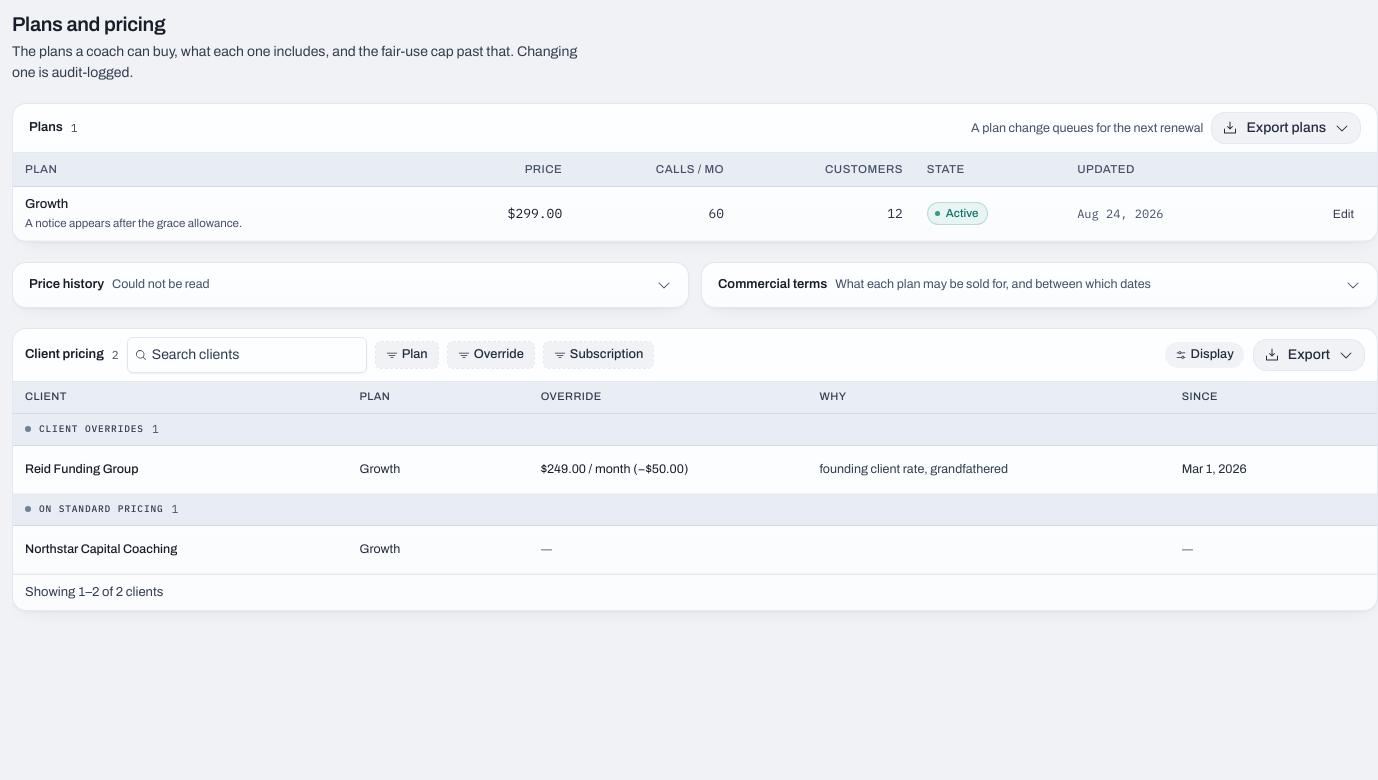
Test: AdminMoneyTiers › filters the client book by search text and by the Plan and Override chips
Expected: the cell "Northstar Capital Coaching" is shown, [13,526,348,574]
Type "Northstar" into the search field with placeholder "Search clients" at (247,354), box [127,336,367,372]
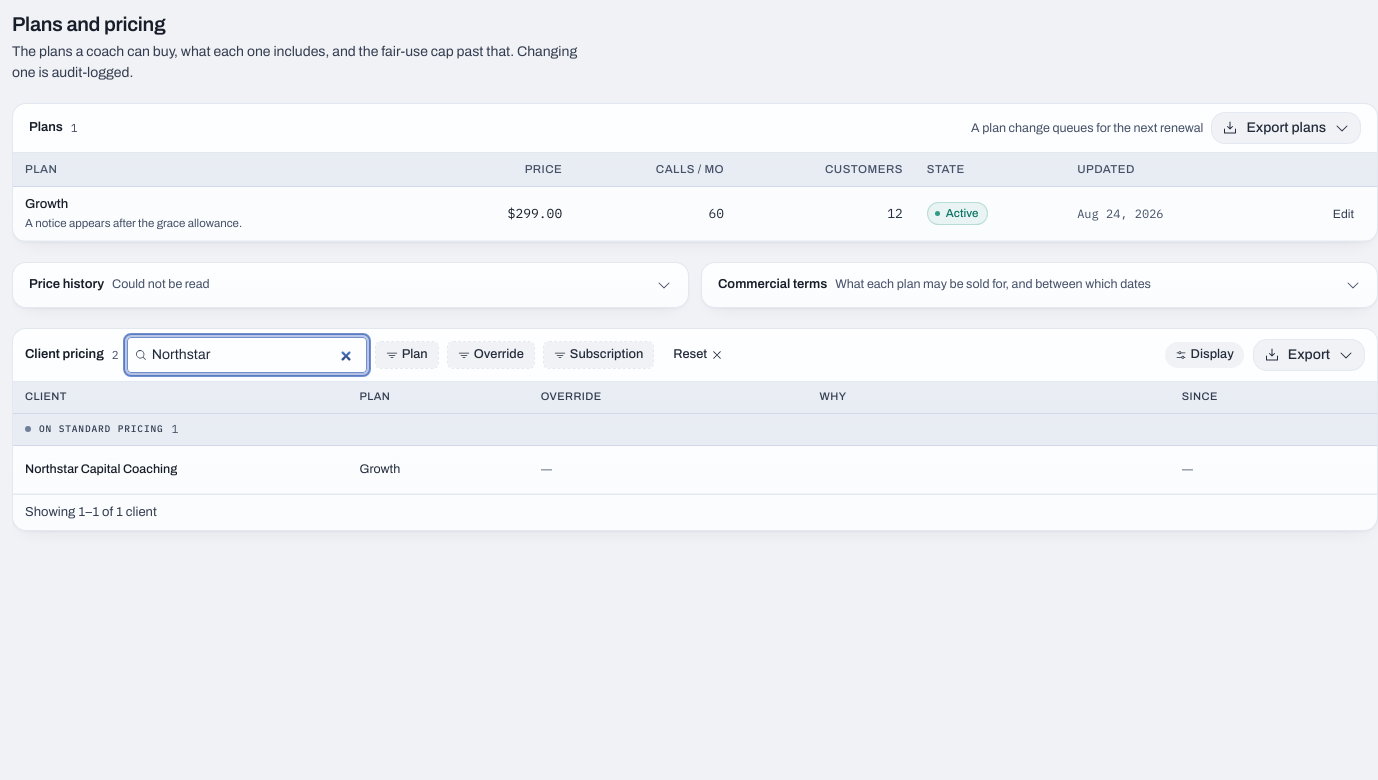
Expected: the button "Reid Funding Group" is gone
Clear the search field with placeholder "Search clients" at (247,354), box [127,336,367,372]
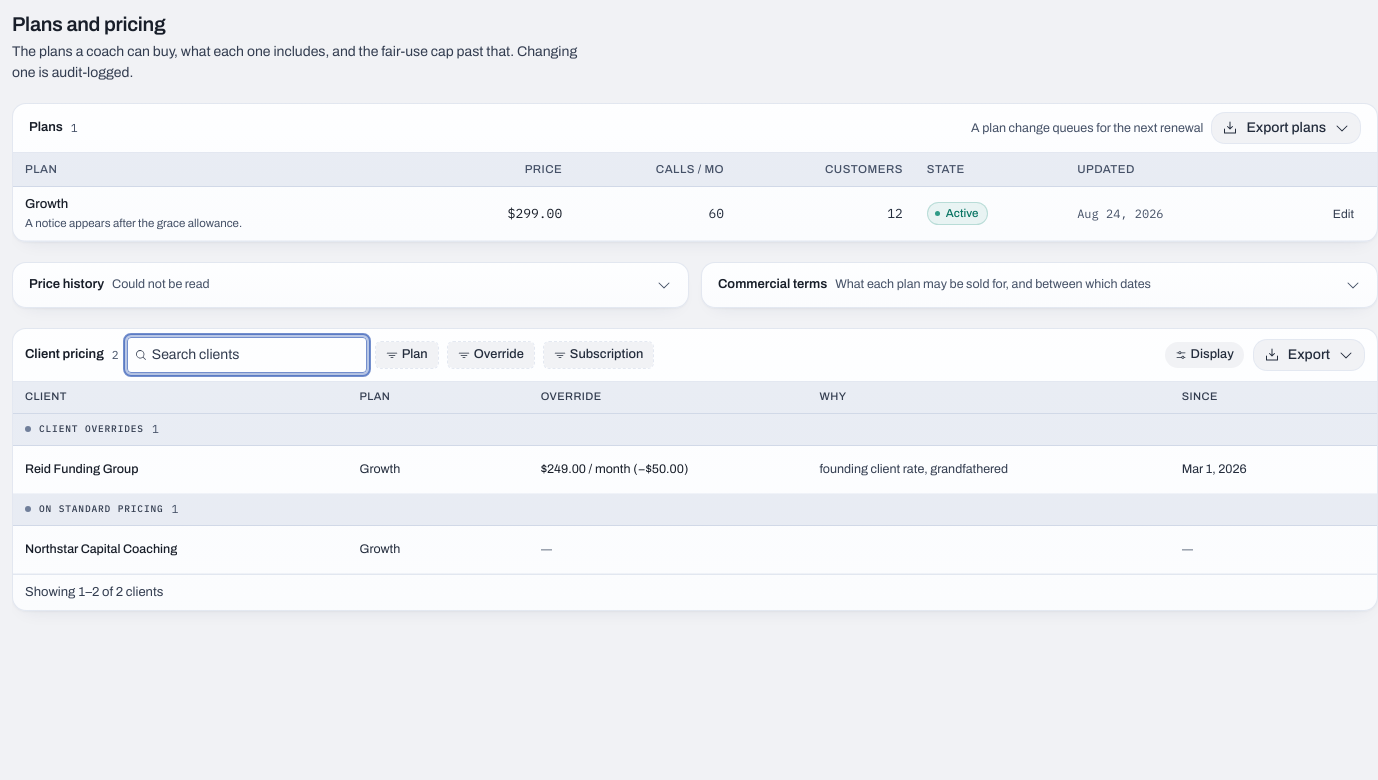
Expected: the cell "Reid Funding Group" is shown, [13,446,348,494]
Click the button "Override" in the row of "Client pricing" at (491,354), box [447,340,535,368]
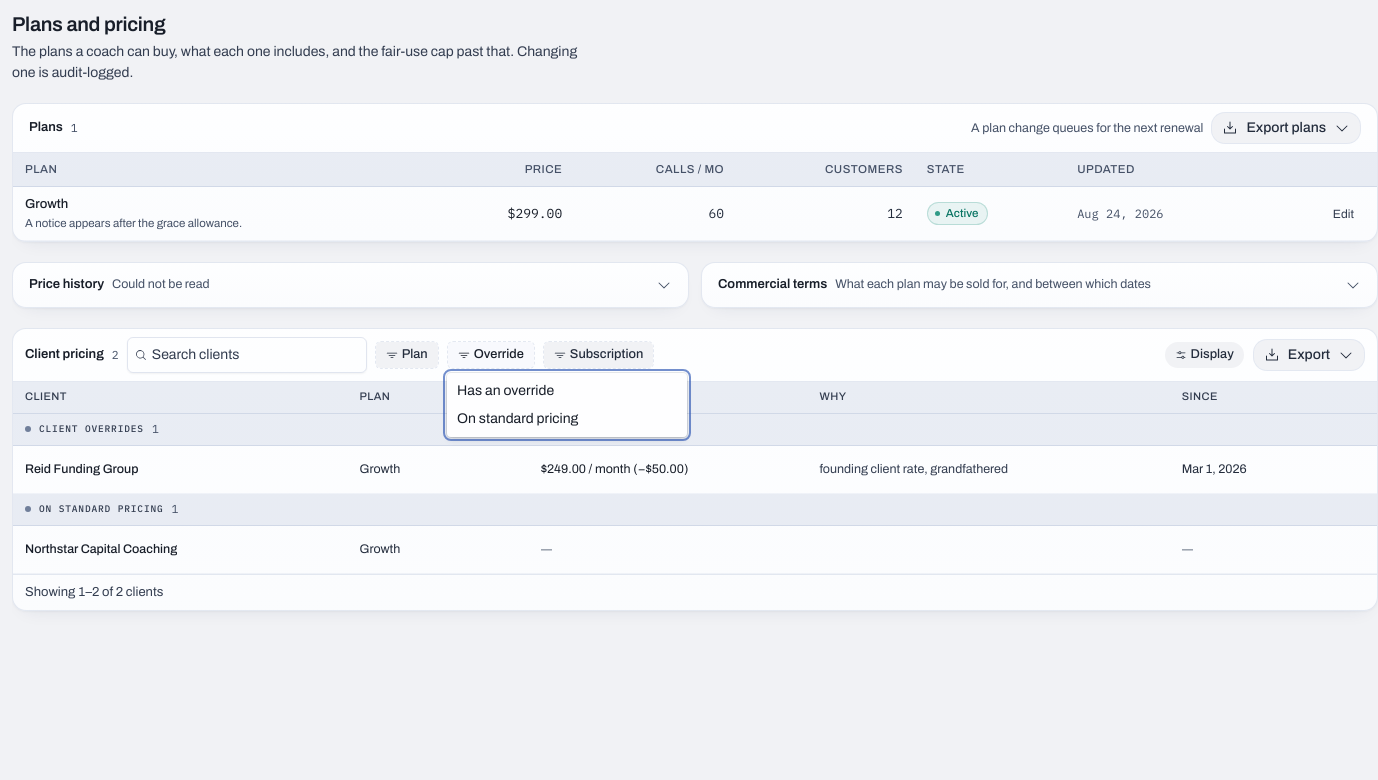
Click the menu item "Has an override" at (506,390), box [457,383,554,398]
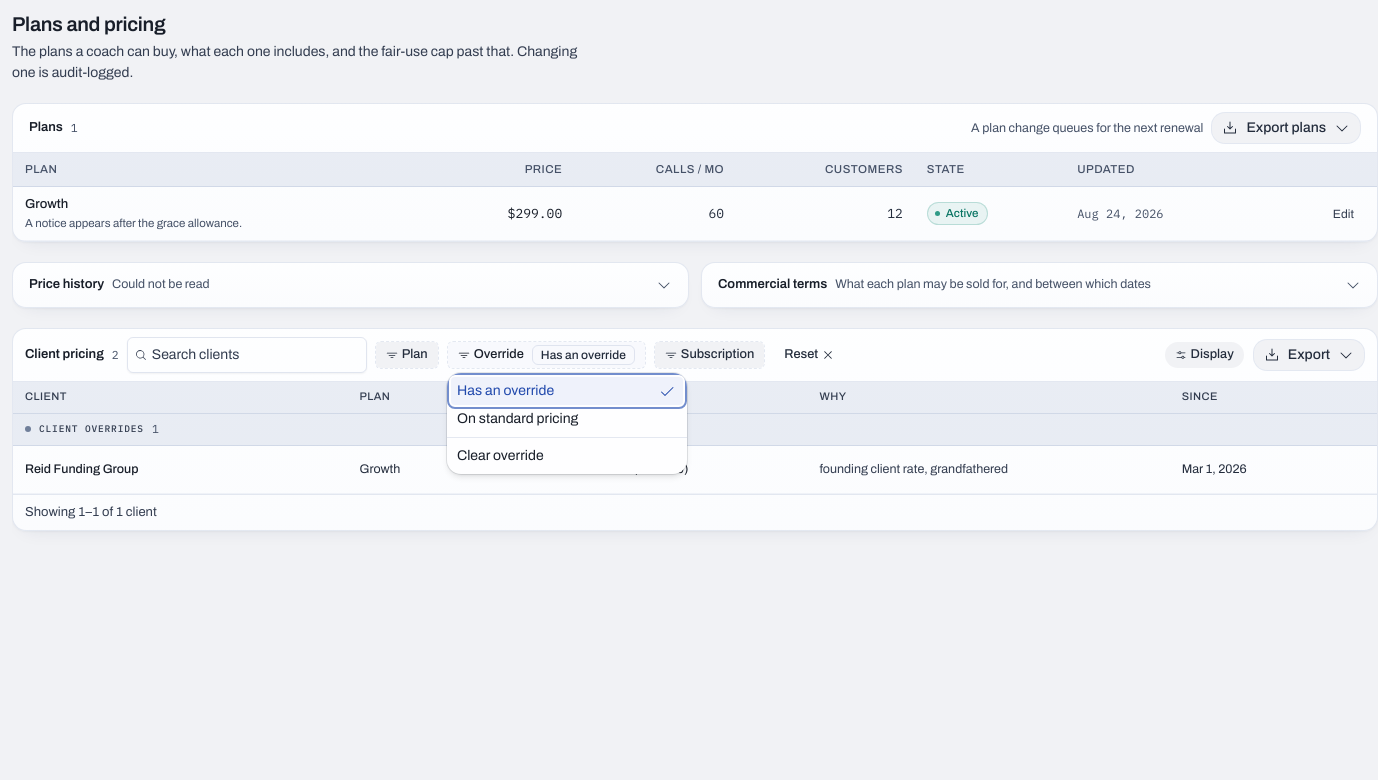
Expected: the cell "Reid Funding Group" is shown, [13,446,348,494]
Expected: the button "Northstar Capital Coaching" is gone
